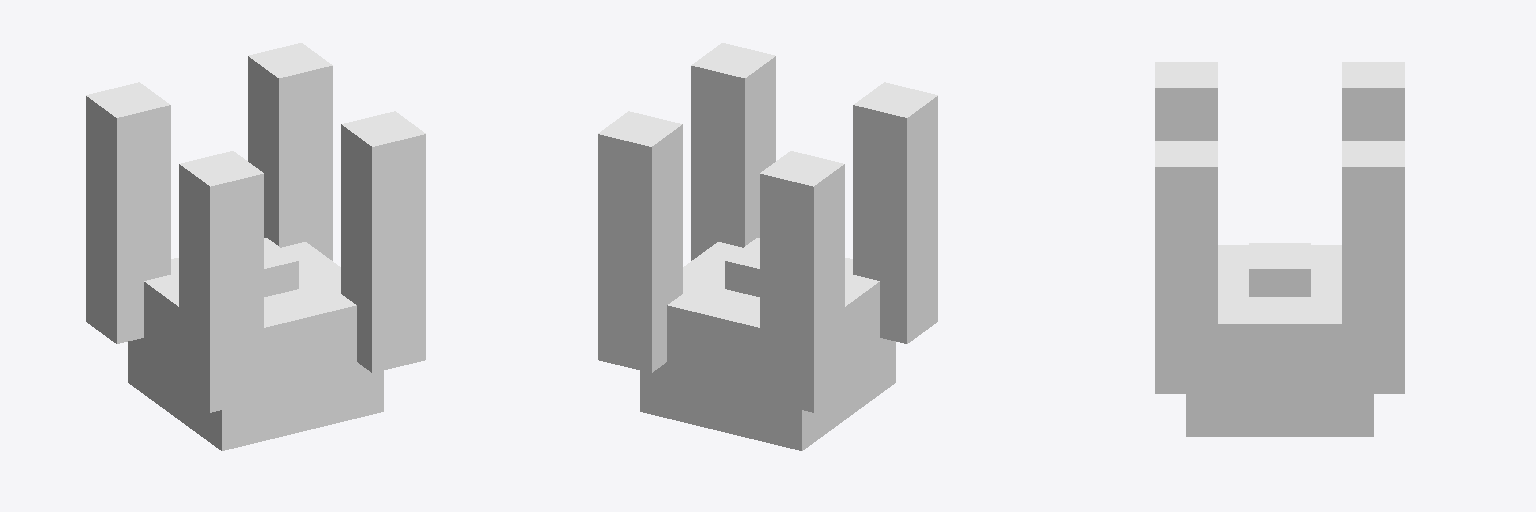
Rendered from antenna_top.obj.
The picture shows the model from 3 angles: view 1: azimuth 30°, elevation 25°; view 2: azimuth 150°, elevation 25°; view 3: azimuth 270°, elevation 25°; orthographic projection.
Visible parts, largest first — view 1: antenna_top; view 2: antenna_top; view 3: antenna_top.
Boxes of the visible parts, box(x1,y1,x2,y2) form: antenna_top: box(86, 43, 425, 450); antenna_top: box(598, 43, 937, 450); antenna_top: box(1155, 62, 1404, 436).
Bounding box in the file's own units: 1 × 1.25 × 1.